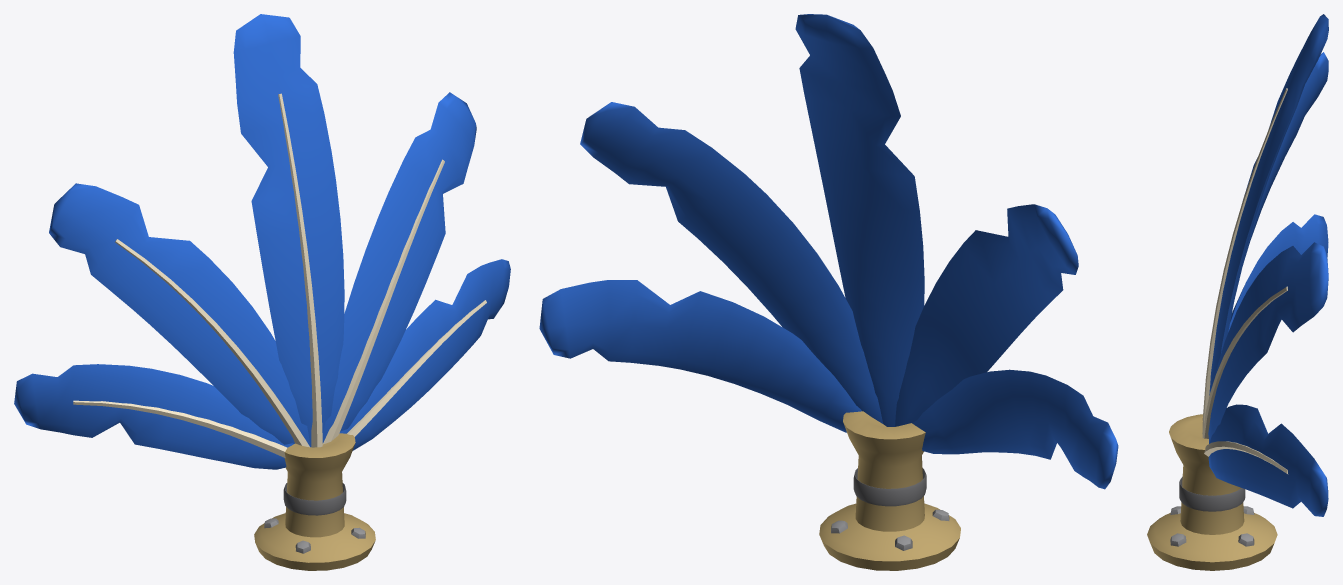
Rendered from Kit_Deco_Plume.glb.
3 renders of one model, left to right at view 1: azimuth 30°, elevation 25°; view 2: azimuth 150°, elevation 25°; view 3: azimuth 270°, elevation 25°, orthographic. The views are drawn at different scales.
Visible parts, largest first — view 1: Kit_Deco_Plume; view 2: Kit_Deco_Plume; view 3: Kit_Deco_Plume.
Boxes of the visible parts, <box> form: Kit_Deco_Plume: <box>14,14,510,570</box>; Kit_Deco_Plume: <box>539,14,1118,570</box>; Kit_Deco_Plume: <box>1147,14,1328,570</box>.
Size of the model in its own units: 0.4185 by 0.4 by 0.1253.
